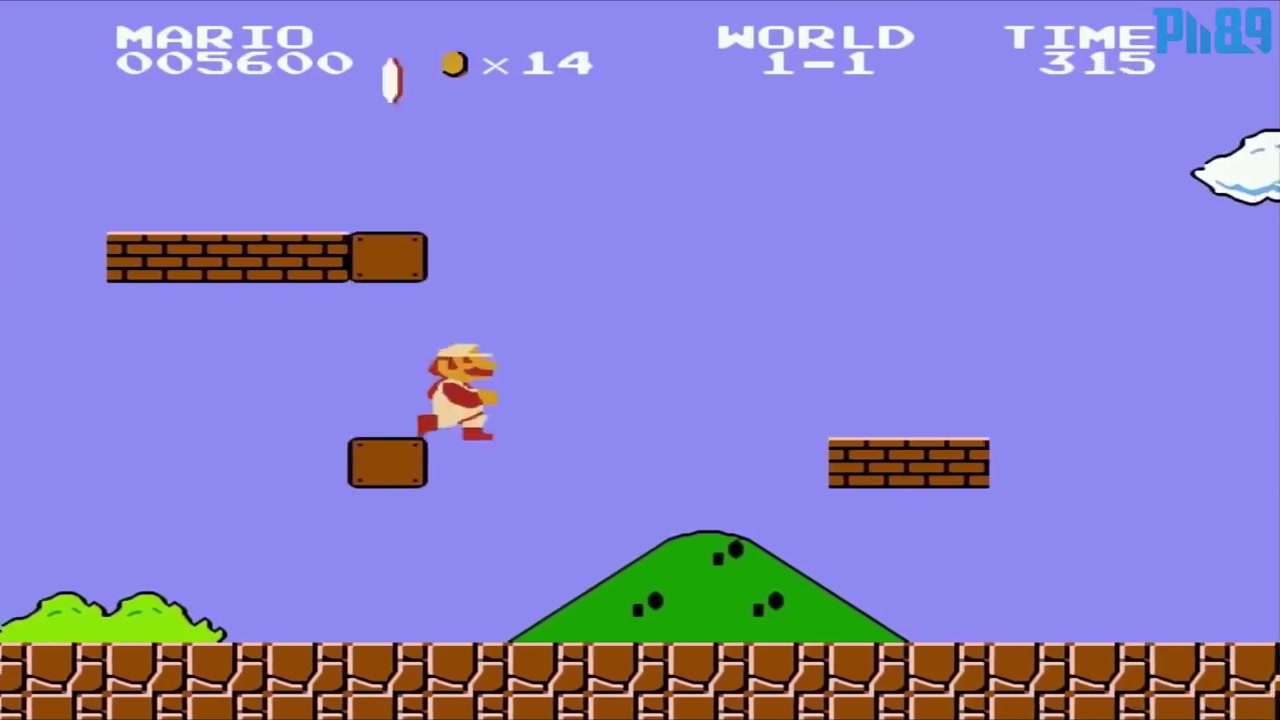mario: (417, 346, 502, 451)
